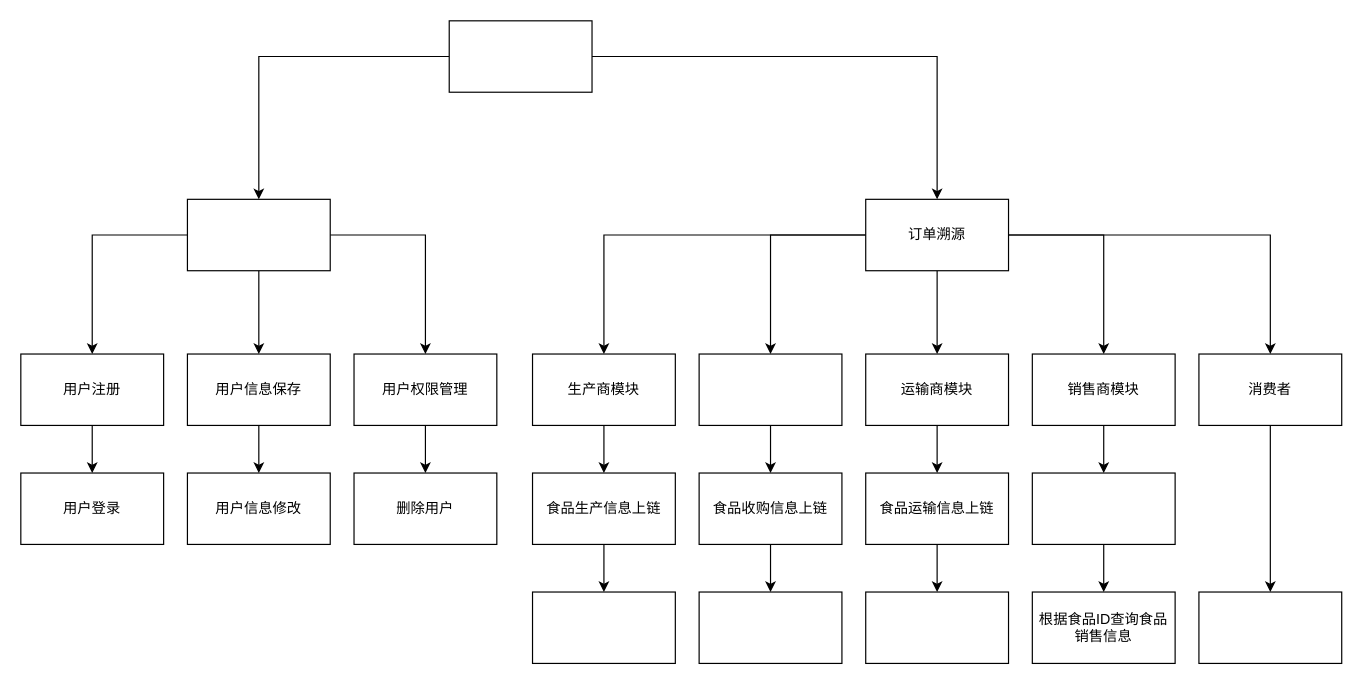
The diagram is 1363 pixels wide and 684 high, and some of its shapes have lost their labels. Each missing label, with the centre of its shape:
收购商模块: the point at 770,389
根据食品ID查询食品全部信息: the point at 1270,627
根据食品ID查询食品收购信息: the point at 770,627
根据食品ID查询食品生产信息: the point at 603,627
根据食品ID查询食品运输信息: the point at 937,627
用户管理: the point at 258,234
食品溯源平台: the point at 520,56
食品销售信息上链: the point at 1103,508
